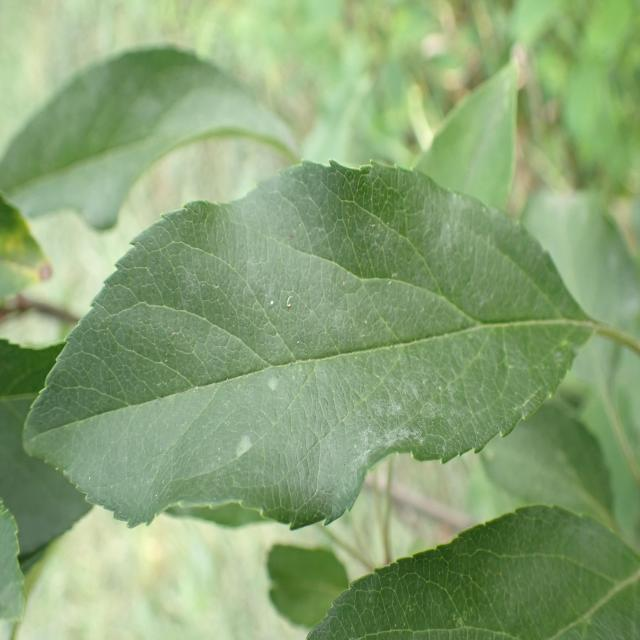Powdery_mildew: (84, 155, 585, 522)
